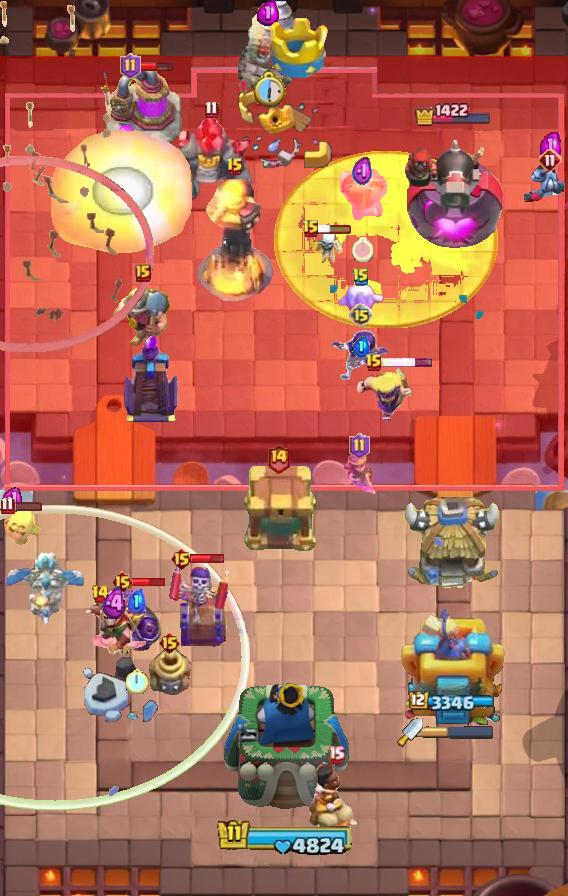arrows: (354, 365, 414, 423)
bandit: (112, 282, 174, 352)
bar: (401, 601, 505, 731)
bat-evolution: (0, 508, 42, 546)
bomb: (239, 465, 317, 553)
cannon: (340, 450, 378, 496)
cannoneer-tower: (168, 116, 254, 204)
clock: (213, 818, 355, 858)
electro-dragon: (195, 176, 275, 304)
electro-spirit: (102, 587, 128, 621), (351, 156, 373, 188), (540, 131, 561, 160), (257, 0, 279, 26), (2, 487, 22, 510), (128, 589, 146, 613), (352, 336, 370, 357)
elite-barbarian: (308, 763, 364, 851)
elixir: (250, 70, 286, 108), (127, 668, 150, 694), (351, 238, 373, 263)
emote: (382, 357, 435, 368), (317, 223, 353, 235), (7, 500, 43, 512), (133, 576, 168, 588), (138, 61, 174, 72), (190, 553, 225, 564)
firecracker-evolution: (114, 587, 163, 652)
goblin-ball: (331, 327, 391, 383)
goblin-drill: (146, 645, 192, 697)
heal-spirit: (306, 232, 344, 266)
ice-spirit-evolution-symbol: (121, 332, 181, 424)
king-tower: (219, 678, 349, 826)
king-tower-bar: (423, 725, 495, 739)
magic-archer: (238, 0, 298, 92)
mini-pekka: (4, 547, 88, 631)
mirror: (336, 281, 386, 319)
pekka: (104, 66, 182, 148)
phoenix-egg: (274, 151, 498, 329)
prince: (402, 497, 504, 593)
royal-delivery: (524, 165, 568, 203)
selected: (414, 101, 494, 126), (409, 691, 497, 713)
skeleton-barrel: (0, 0, 154, 354)
skeleton-dragon: (335, 167, 389, 221)
skeleton-king: (79, 596, 151, 656)
skeleton-king-bar: (168, 558, 230, 650)
text: (266, 443, 291, 474), (538, 148, 562, 172), (349, 303, 373, 327), (171, 547, 194, 571), (111, 570, 134, 594), (159, 631, 182, 655), (119, 53, 140, 79), (350, 433, 371, 459), (90, 584, 109, 604), (226, 157, 244, 177), (302, 219, 320, 239), (352, 267, 370, 287), (365, 353, 383, 373), (327, 745, 344, 763), (135, 264, 151, 282), (204, 101, 219, 119), (1, 497, 16, 515)
tower-bar: (401, 132, 508, 256)
valkyrie: (44, 131, 200, 253)
